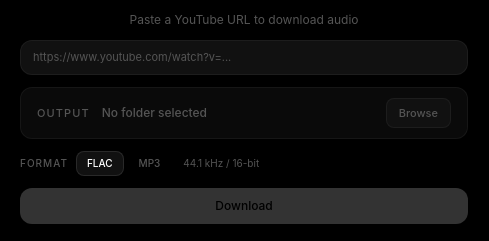
it: YouTubeDownloader › shows video info after fetch
In the field with placeholder "https://www.youtube.com/watch?v=...": (244, 57) [20, 40, 468, 74], type "https://www.youtube.com/watch?v=test123"
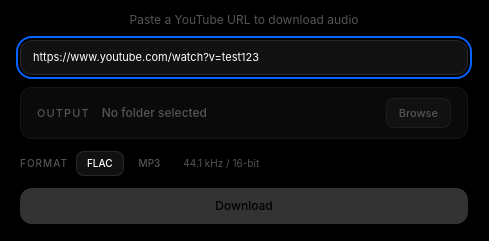
Click the button "Browse": (418, 113) [386, 98, 451, 128]
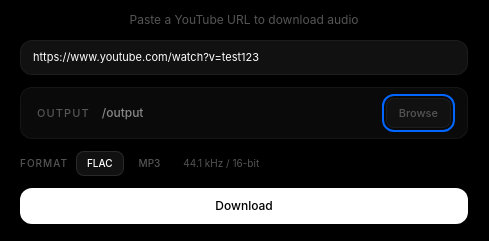
Click the button "Download": (244, 206) [20, 188, 468, 224]
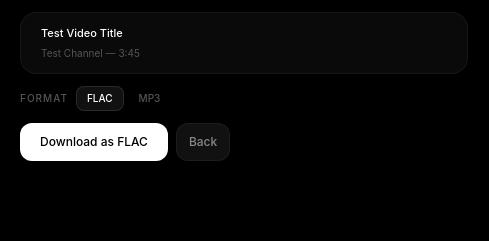
Now the text "Test Video Title" is shown, box [41, 26, 123, 40]
Now the text "Test Channel — 3:45" is shown, box [41, 46, 140, 58]
Now the button "Download as FLAC" is shown, box [20, 122, 168, 160]
